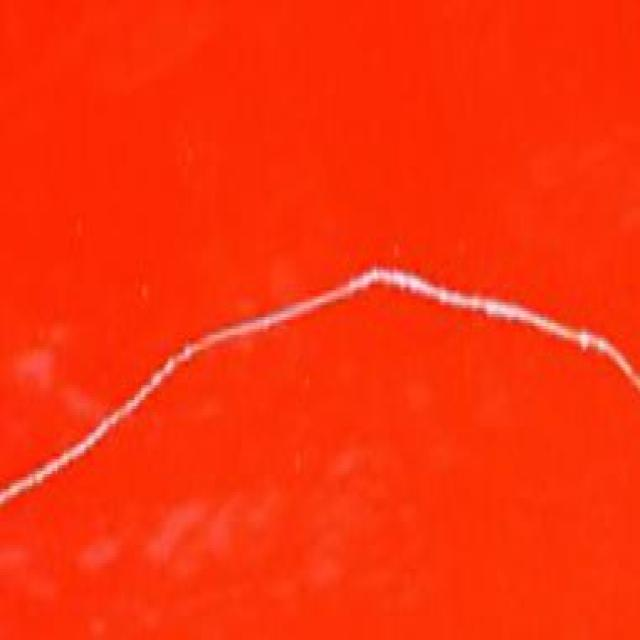scratch: (0, 261, 628, 524)
